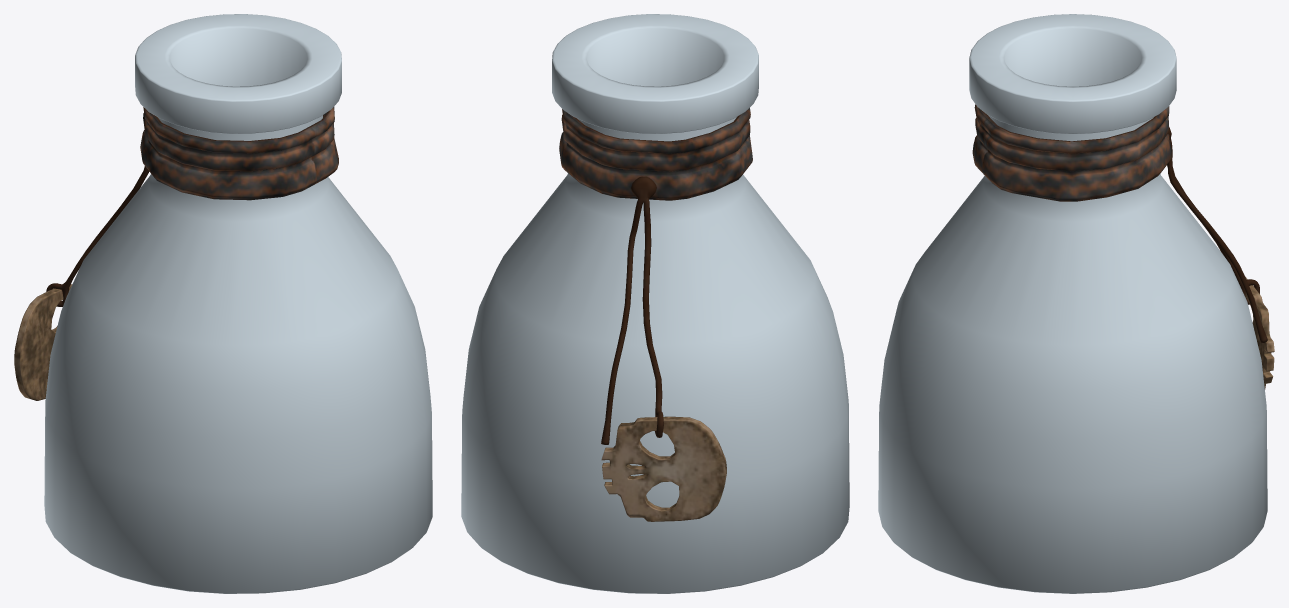
Rendered from bottle_with_skull-pendant_and_a_mystical_liquid.glb.
3 views of the same model, side by side, from view 1: azimuth 30°, elevation 25°; view 2: azimuth 150°, elevation 25°; view 3: azimuth 270°, elevation 25° (orthographic).
Parts seen in each view (by area): view 1: Flasche mit allem; view 2: Flasche mit allem; view 3: Flasche mit allem.
Boxes of the visible parts, x1,y1,x2,y2 form: Flasche mit allem: [14, 14, 432, 593]; Flasche mit allem: [461, 14, 849, 593]; Flasche mit allem: [878, 14, 1274, 593].
Bounding box in the file's own units: 89.08 × 115 × 90.68.
Materials: 4 (4 with a texture image).
